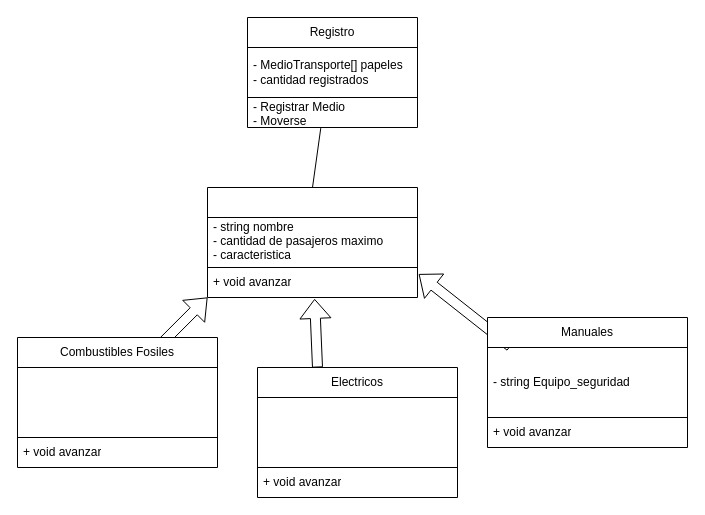
Image size: 705x515. Some labels were removed from this diagram. Each missing label, with the box of its shape:
- string nivel_contaminacion: (16, 366, 218, 438)
- string tipo_bateria: (256, 396, 458, 468)
Medio de Transporte: (206, 186, 418, 298)
